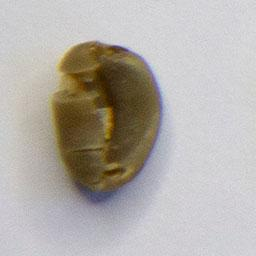premium: (47, 38, 166, 194)
